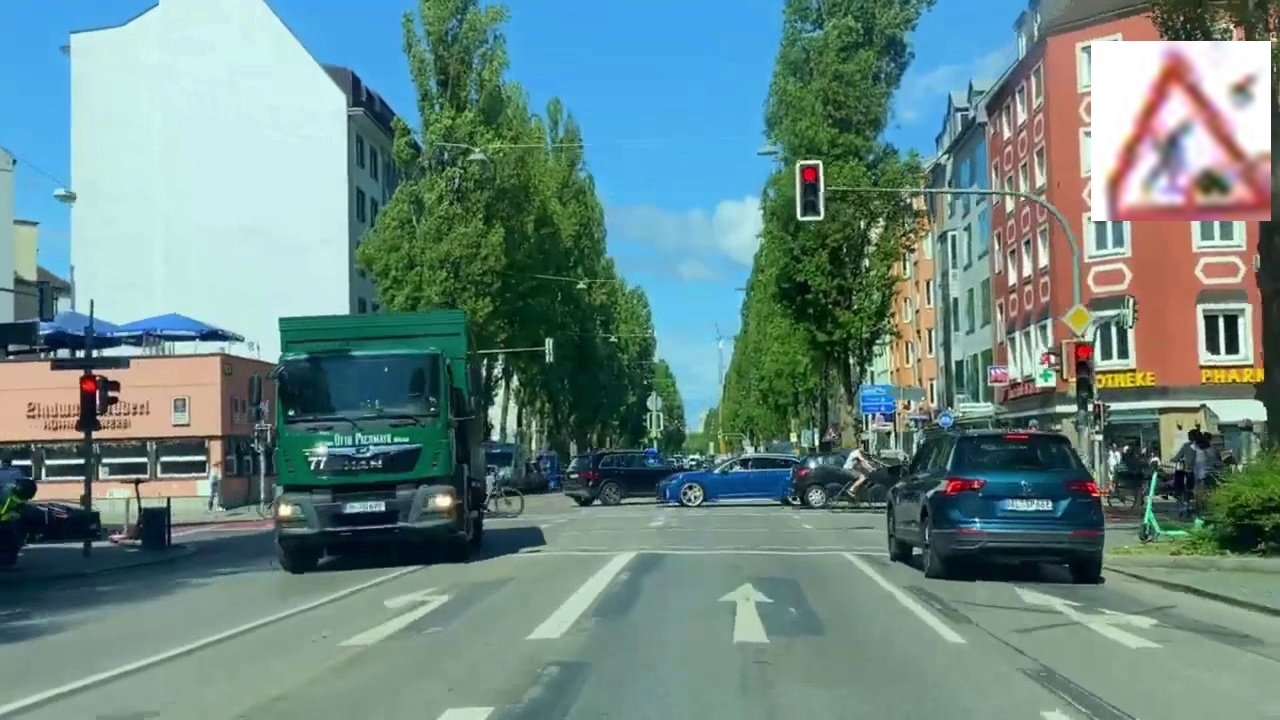Road work: (1091, 41, 1271, 221)
